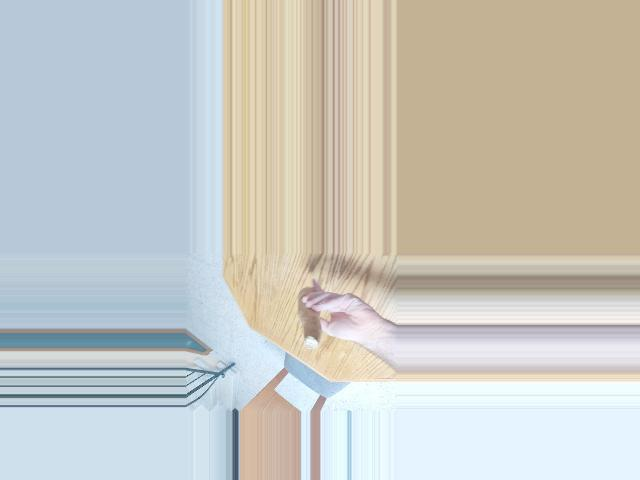sweet_potato: (294, 294, 328, 346)
